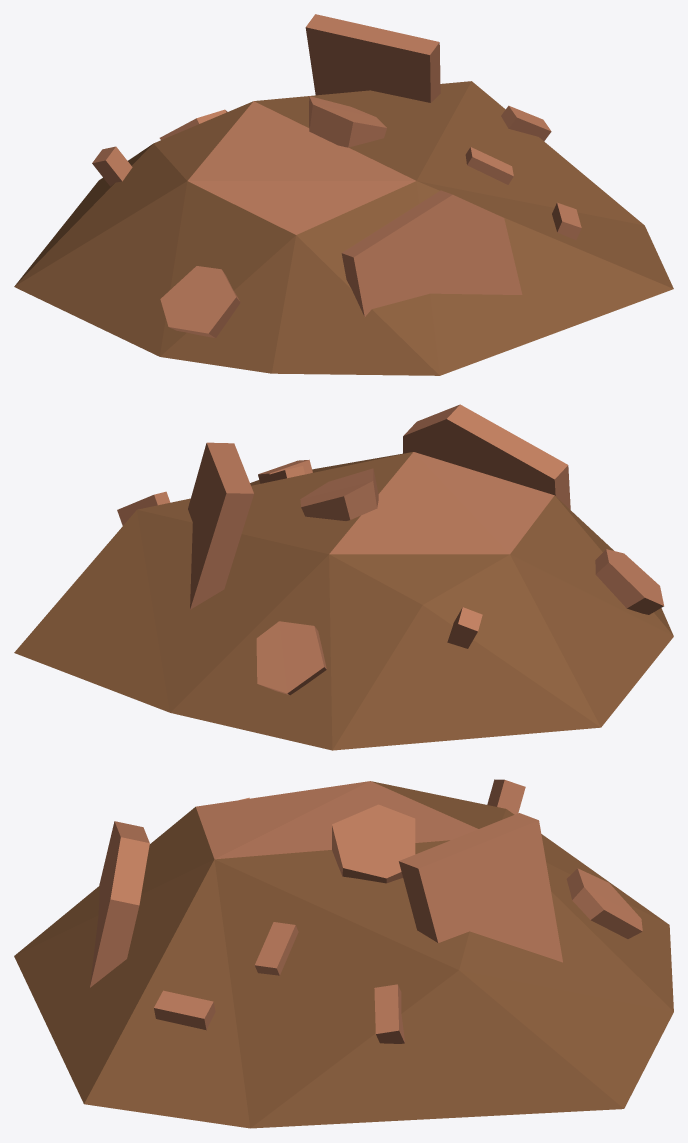
Rendered from rubble-apocalypse-a.fbx.
The picture shows the model from 3 angles, top to bottom: view 1: azimuth 30°, elevation 25°; view 2: azimuth 150°, elevation 25°; view 3: azimuth 270°, elevation 25°; orthographic projection. The views are drawn at different scales.
Parts seen in each view (by area): view 1: rubble-apocalypse-a; view 2: rubble-apocalypse-a; view 3: rubble-apocalypse-a.
Boxes of the visible parts, x1=… form: rubble-apocalypse-a: x1=14, y1=14, x2=673, y2=375; rubble-apocalypse-a: x1=14, y1=404, x2=673, y2=750; rubble-apocalypse-a: x1=14, y1=779, x2=673, y2=1128.
Bounding box in the file's own units: 5.27 × 1.6 × 4.9.
